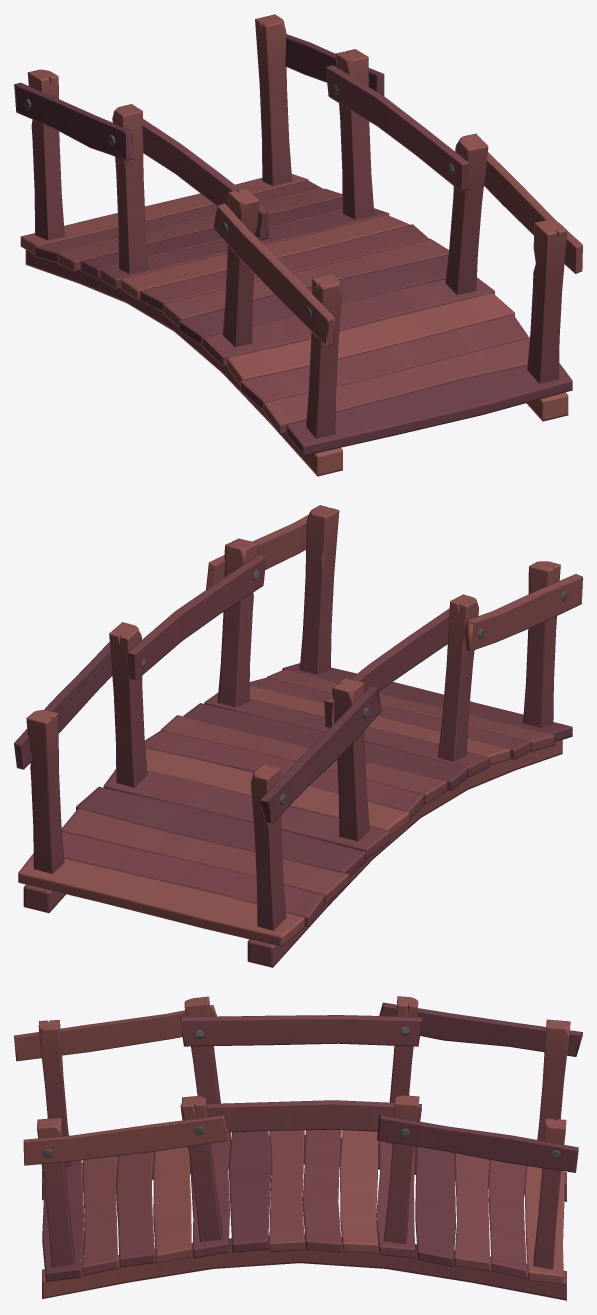
The model's file is Bridge_Wood_009.glb.
The picture shows the model from 3 angles, top to bottom: view 1: azimuth 30°, elevation 25°; view 2: azimuth 150°, elevation 25°; view 3: azimuth 270°, elevation 25°; orthographic projection. The views are drawn at different scales.
Parts seen in each view (by area): view 1: Cube.009; view 2: Cube.009; view 3: Cube.009.
Part boxes in pixels (left/top/right/bottom): Cube.009: left=14, top=14, right=582, bottom=476; Cube.009: left=14, top=505, right=582, bottom=967; Cube.009: left=14, top=996, right=582, bottom=1300.
Bounding box in the file's own units: 7.77 × 5.85 × 15.37.
1 material, 1 textured.
